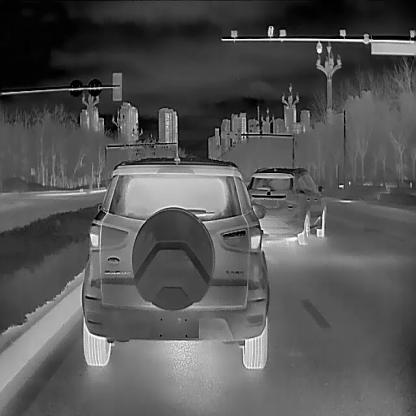car: (81, 156, 269, 368), (247, 164, 327, 245)
